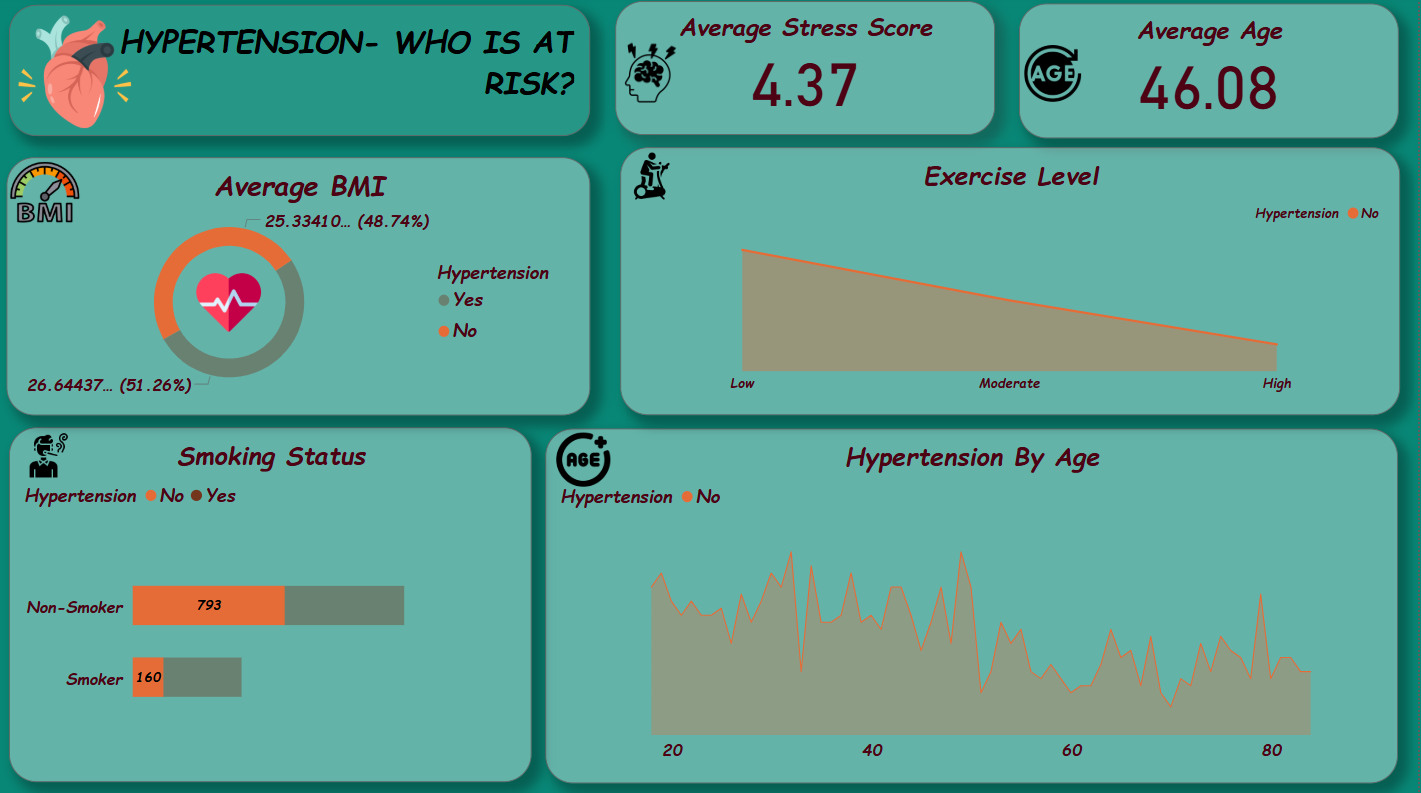

What the dashboard file says about the page in this screenshot:
{"tool":"powerbi","page":{"name":"Dashbord","canvas":[1280,720],"ordinal":0},"visuals":[{"type":"kpi","title":"Average Stress Score","fields":{"TrendLine":["hypertension_dataset.Hypertension Status"],"Indicator":["Avg(hypertension_dataset.Stress_Score)"]},"box":[556,5,342.1,120.7],"z":0},{"type":"kpi","title":"Average Age","fields":{"Indicator":["Avg(hypertension_dataset.Age)"],"TrendLine":["hypertension_dataset.Has_Hypertension"]},"box":[919.3,6.2,342.1,121.9],"z":1000},{"type":"stackedAreaChart","title":"Hypertension By Age","fields":{"Category":["hypertension_dataset.Age"],"Y":["CountNonNull(hypertension_dataset.Has_Hypertension)"],"Series":["hypertension_dataset.Hypertension Status"]},"box":[493,389.5,768.6,319.8],"z":2000},{"type":"barChart","title":"Smoking Status","fields":{"Category":["hypertension_dataset.Smoking_Status"],"Y":["CountNonNull(hypertension_dataset.Has_Hypertension)"],"Series":["hypertension_dataset.Has_Hypertension"]},"box":[8.7,389.4,471.5,319.7],"z":3000},{"type":"donutChart","title":"Average BMI","fields":{"Category":["hypertension_dataset.Hypertension Status"],"Y":["Avg(hypertension_dataset.BMI)"]},"box":[6.2,145.5,526.2,232.6],"z":4000},{"type":"stackedAreaChart","title":"Exercise Level","fields":{"Y":["CountNonNull(hypertension_dataset.Has_Hypertension)"],"Category":["hypertension_dataset.Exercise_Level"],"Series":["hypertension_dataset.Has_Hypertension"]},"box":[559.8,136.8,702.8,241.3],"z":5000},{"type":"textbox","box":[8.7,7.5,523.7,118.2],"z":6000},{"type":"image","box":[0,0,136.8,136.8],"z":7000},{"type":"image","box":[554.8,31.1,65.9,74.6],"z":8000},{"type":"image","box":[919.7,33.8,60.9,72.1],"z":9000},{"type":"image","box":[169.2,242.6,75.9,68.4],"z":10000},{"type":"image","box":[493.7,388.9,66.5,58.6],"z":11000},{"type":"image","box":[0,389.4,85.8,52.2],"z":12000},{"type":"image","box":[546.1,136.8,83.3,52.2],"z":13000},{"type":"image","box":[0,128.1,82.1,95.8],"z":14000}]}

Visuals, with their boxes in screenshot pixels (x1, y1, x2, y2), scaled from the page's 1280x720 canvas onto the 1421x793 screenshot:
"Average Stress Score" kpi: {"x1": 617, "y1": 6, "x2": 997, "y2": 138}
"Average Age" kpi: {"x1": 1021, "y1": 7, "x2": 1400, "y2": 141}
"Hypertension By Age" stackedAreaChart: {"x1": 547, "y1": 429, "x2": 1401, "y2": 781}
"Smoking Status" barChart: {"x1": 10, "y1": 429, "x2": 533, "y2": 781}
"Average BMI" donutChart: {"x1": 7, "y1": 160, "x2": 591, "y2": 416}
"Exercise Level" stackedAreaChart: {"x1": 621, "y1": 151, "x2": 1402, "y2": 416}
textbox: {"x1": 10, "y1": 8, "x2": 591, "y2": 138}
image: {"x1": 0, "y1": 0, "x2": 152, "y2": 151}
image: {"x1": 616, "y1": 34, "x2": 689, "y2": 116}
image: {"x1": 1021, "y1": 37, "x2": 1089, "y2": 117}
image: {"x1": 188, "y1": 267, "x2": 272, "y2": 343}
image: {"x1": 548, "y1": 428, "x2": 622, "y2": 493}
image: {"x1": 0, "y1": 429, "x2": 95, "y2": 486}
image: {"x1": 606, "y1": 151, "x2": 699, "y2": 208}
image: {"x1": 0, "y1": 141, "x2": 91, "y2": 247}
